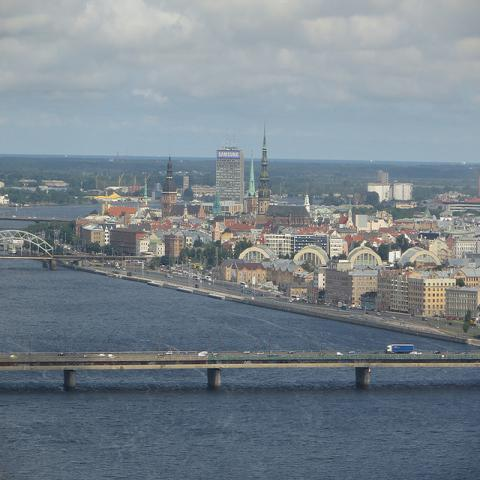car: (96, 343, 418, 363), (198, 351, 208, 357), (242, 350, 251, 355), (10, 354, 18, 359), (410, 352, 423, 355), (287, 350, 296, 354), (165, 351, 173, 355), (433, 350, 441, 354), (257, 351, 264, 355), (336, 352, 343, 356), (57, 353, 66, 356), (348, 350, 354, 354), (182, 352, 189, 355), (357, 351, 362, 354)
truck: (387, 344, 415, 354)
